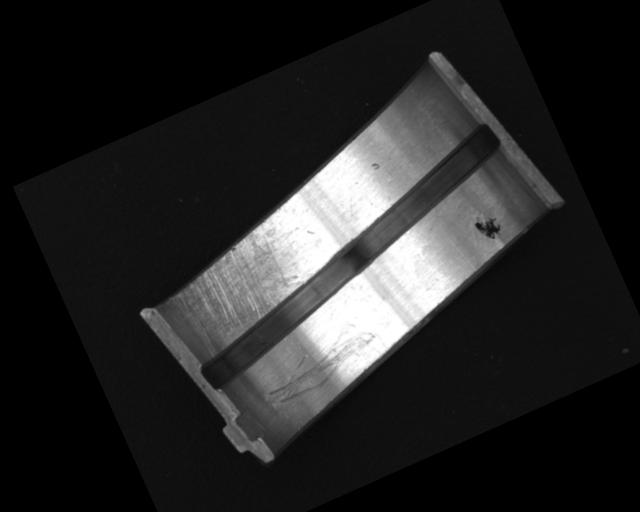blot: (471, 208, 505, 244)
bruise: (369, 160, 382, 173)
gap: (153, 117, 548, 393)
nick: (253, 316, 388, 411)
scratch: (153, 201, 334, 363)
